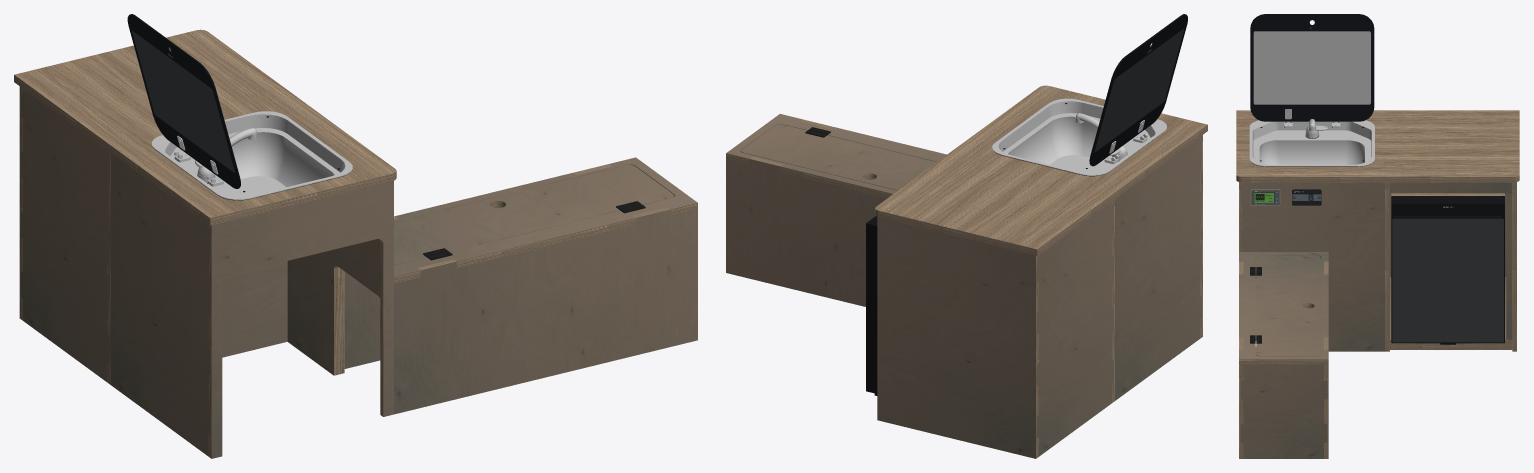
The model's file is front-module-rear-20-birch.glb.
3 renders of one model, left to right at view 1: azimuth 30°, elevation 25°; view 2: azimuth 150°, elevation 25°; view 3: azimuth 270°, elevation 25°, orthographic. The views are drawn at different scales.
Parts seen in each view (by area): view 1: Forward end panel -15mm with top tenons_1, Back panel - 15mm with tenons_0.001, ボディ61_0, Back panel - 15mm with tenons_0.002, Forward end panel -15mm with top tenons_1.001, ボディ56_1, Stainless basin with rear faucet ledge_0, Front panel - 15mm with tenons_1.001, Gray ceramic printed field approximation_0, Forward end panel -15mm with top tenons_1.002, ボディ57_1, Black safety glass_0 (+5 smaller); view 2: Rearward end panel -15mm with top tenons_1.001, ボディ61_0, Back panel - 15mm with tenons_0.001, Rearward end panel -15mm with top tenons_1, Back panel - 15mm with tenons_0.002, Stainless basin with rear faucet ledge_0, ボディ56_1, Gray ceramic printed field approximation_0, ボディ57_1, Black safety glass_0, Door black surround with full-width recessed handle_0, ボディ57_0; view 3: Front panel - 15mm with tenons_1.001, Dark gray frameless face_0, ボディ61_0, ボディ15 (1)_0, Front panel - 15mm with tenons_0, ボディ56_1, Stainless basin with rear faucet ledge_0, Black safety glass_0, ボディ57_1, Door black surround with full-width recessed handle_0, ボディ53_1, Rear extension removable infill - 20x540x15mm_1 (+10 smaller).
Boxes of the visible parts, x1=… form: Forward end panel -15mm with top tenons_1: x1=394, y1=209, x2=697, y2=414; Back panel - 15mm with tenons_0.001: x1=110, y1=153, x2=210, y2=456; ボディ61_0: x1=14, y1=29, x2=396, y2=225; Back panel - 15mm with tenons_0.002: x1=20, y1=89, x2=109, y2=381; Forward end panel -15mm with top tenons_1.001: x1=211, y1=180, x2=393, y2=458; ボディ56_1: x1=394, y1=164, x2=673, y2=264; Stainless basin with rear faucet ledge_0: x1=151, y1=111, x2=352, y2=200; Front panel - 15mm with tenons_1.001: x1=287, y1=239, x2=380, y2=375; Gray ceramic printed field approximation_0: x1=132, y1=30, x2=234, y2=172; Forward end panel -15mm with top tenons_1.002: x1=222, y1=261, x2=287, y2=357; ボディ57_1: x1=394, y1=157, x2=697, y2=276; Black safety glass_0: x1=127, y1=14, x2=240, y2=188; Rearward end panel -15mm with top tenons_1.001: x1=877, y1=217, x2=1035, y2=458; ボディ61_0: x1=875, y1=85, x2=1207, y2=255; Back panel - 15mm with tenons_0.001: x1=1115, y1=137, x2=1201, y2=400; Rearward end panel -15mm with top tenons_1: x1=726, y1=159, x2=886, y2=306; Back panel - 15mm with tenons_0.002: x1=1037, y1=201, x2=1113, y2=456; Stainless basin with rear faucet ledge_0: x1=992, y1=98, x2=1166, y2=175; ボディ56_1: x1=741, y1=124, x2=936, y2=190; Gray ceramic printed field approximation_0: x1=1094, y1=28, x2=1184, y2=152; ボディ57_1: x1=726, y1=114, x2=946, y2=193; Black safety glass_0: x1=1089, y1=14, x2=1187, y2=166; Door black surround with full-width recessed handle_0: x1=866, y1=216, x2=877, y2=393; ボディ57_0: x1=726, y1=123, x2=936, y2=198; Front panel - 15mm with tenons_1.001: x1=1240, y1=182, x2=1385, y2=351; Dark gray frameless face_0: x1=1392, y1=218, x2=1503, y2=342; ボディ61_0: x1=1236, y1=110, x2=1519, y2=182; ボディ15 (1)_0: x1=1253, y1=31, x2=1370, y2=104; Front panel - 15mm with tenons_0: x1=1240, y1=364, x2=1327, y2=458; ボディ56_1: x1=1256, y1=255, x2=1320, y2=355; Stainless basin with rear faucet ledge_0: x1=1249, y1=120, x2=1374, y2=166; Black safety glass_0: x1=1250, y1=14, x2=1374, y2=121; ボディ57_1: x1=1239, y1=252, x2=1328, y2=359; Door black surround with full-width recessed handle_0: x1=1391, y1=196, x2=1504, y2=343; ボディ53_1: x1=1390, y1=182, x2=1512, y2=193; Rear extension removable infill - 20x540x15mm_1: x1=1506, y1=193, x2=1512, y2=339.
Size of the model in its own units: 1.37 by 1.02 by 0.95.
Materials: 30 (4 with a texture image).
